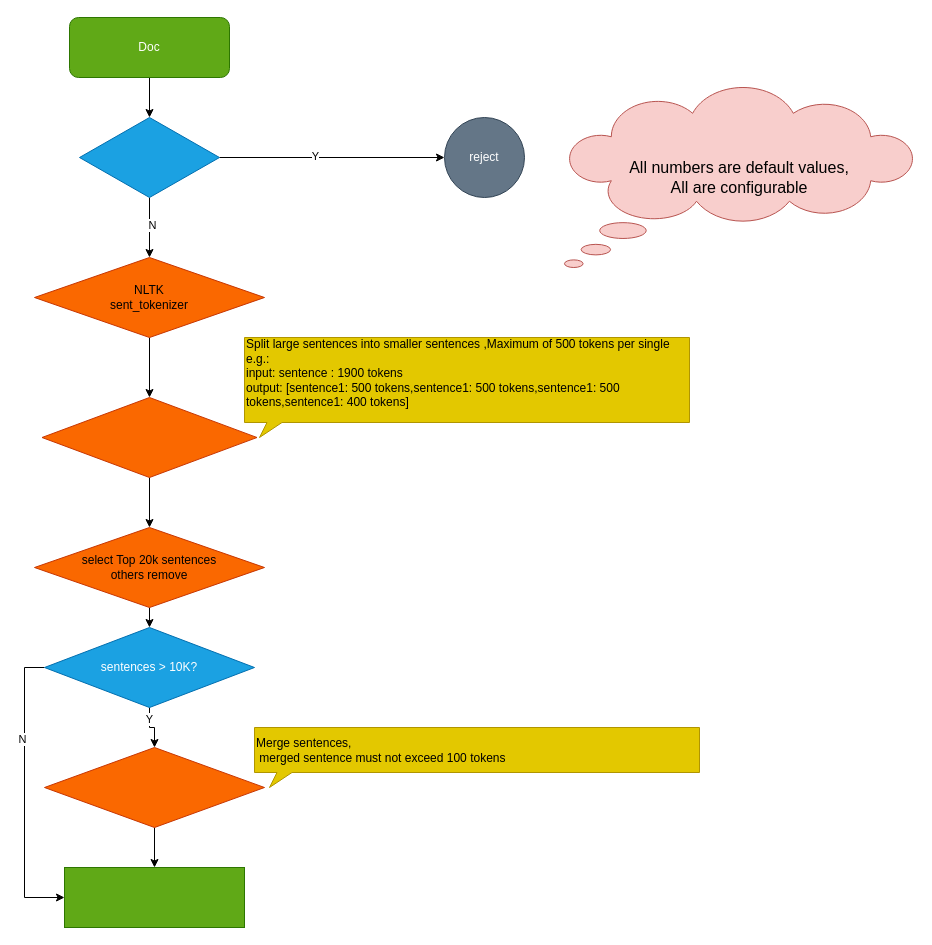
The diagram is 932 pixels wide and 945 high, and some of its shapes have lost their labels. The shapes that lost their labels are listed below. From the top down, each one's centre as x and y in pixels, then its label:
At (149,157): "size > 2M?".
At (149,437): "process large sentence".
At (154,787): "merge sentence".
At (154,897): "finalize sentences".
